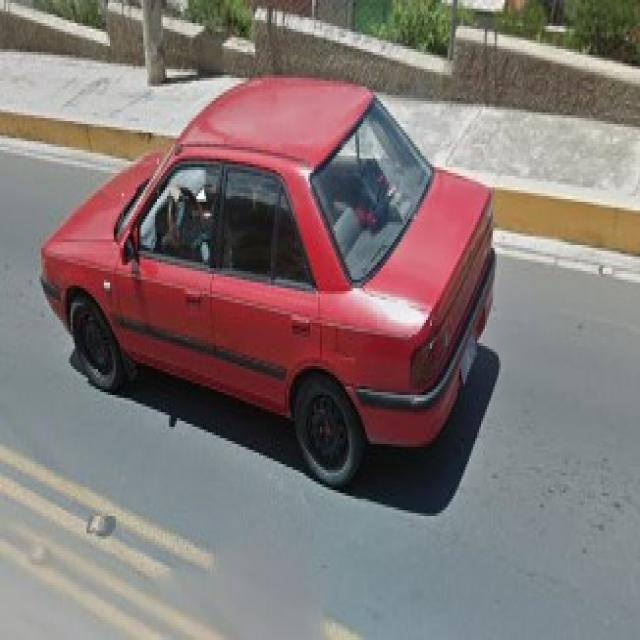truck: (38, 90, 502, 487)
